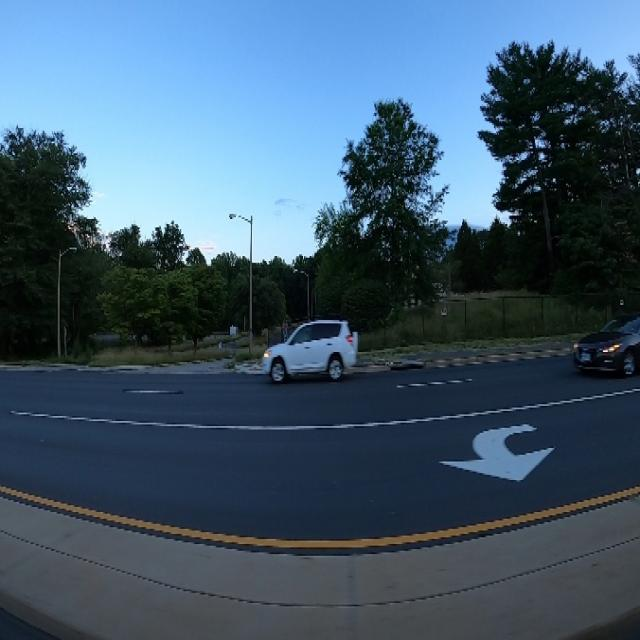cars: (254, 306, 360, 393), (572, 302, 640, 392)
